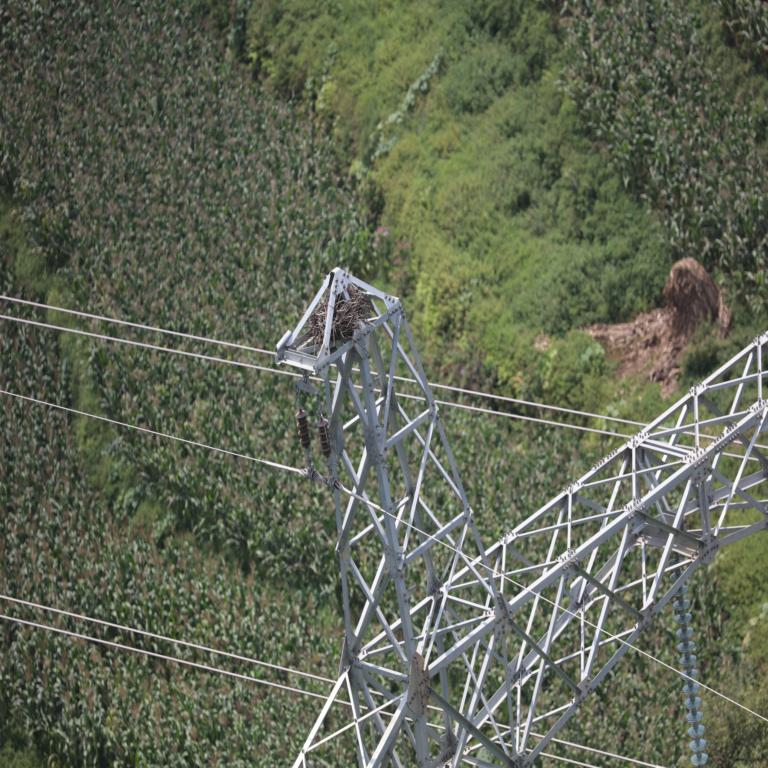nest: (315, 292, 371, 342)
